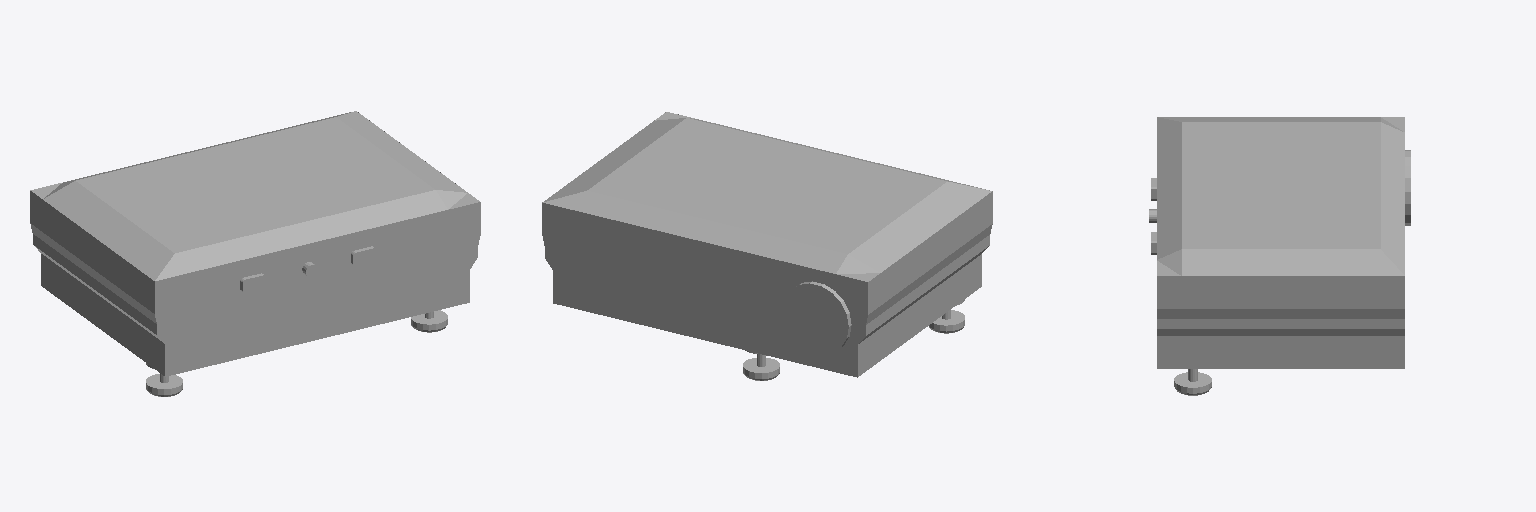
3 views of the same model, side by side, from view 1: azimuth 30°, elevation 25°; view 2: azimuth 150°, elevation 25°; view 3: azimuth 270°, elevation 25° (orthographic).
Parts seen in each view (by area): view 1: OptomaProjector; view 2: OptomaProjector; view 3: OptomaProjector.
Part boxes in pixels (left/top/right/bottom): OptomaProjector: left=30, top=111, right=480, bottom=396; OptomaProjector: left=542, top=112, right=992, bottom=380; OptomaProjector: left=1149, top=117, right=1410, bottom=395.
Bounding box in the file's own units: 29.91 × 12.34 × 20.83.
1 materials, 1 textured.